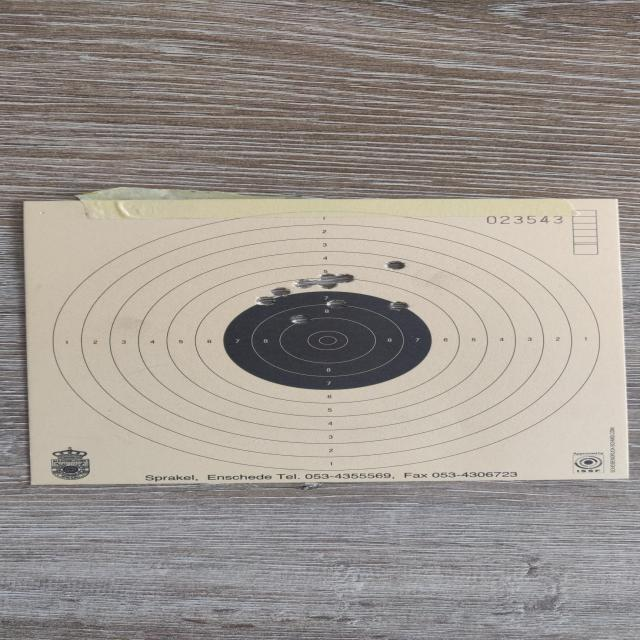10: (288, 314, 312, 325)
5: (385, 260, 407, 270)
6: (338, 273, 354, 283)
7: (316, 281, 339, 290), (294, 278, 314, 288), (318, 272, 338, 281)
8: (269, 286, 292, 298), (388, 301, 409, 311), (255, 296, 276, 306)
9: (326, 298, 348, 310)
Black Contour: (222, 291, 433, 390)
Target: (49, 208, 605, 472)
